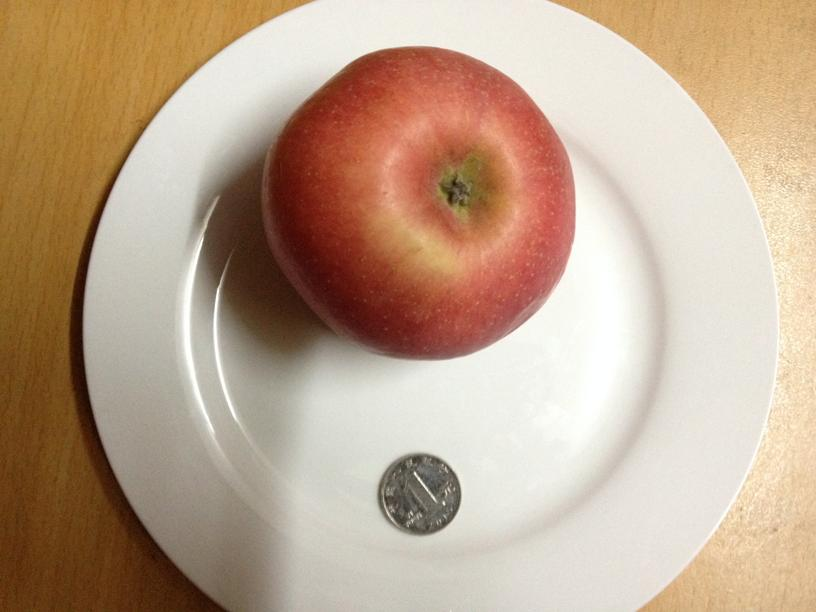apple: (261, 45, 577, 362)
coin: (375, 451, 462, 535)
